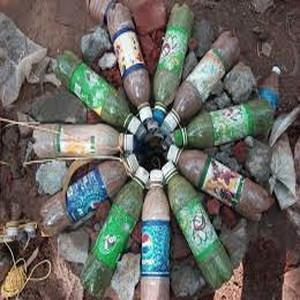Plastic: (148, 0, 189, 115), (139, 169, 173, 300), (178, 101, 274, 146), (30, 125, 137, 158)
